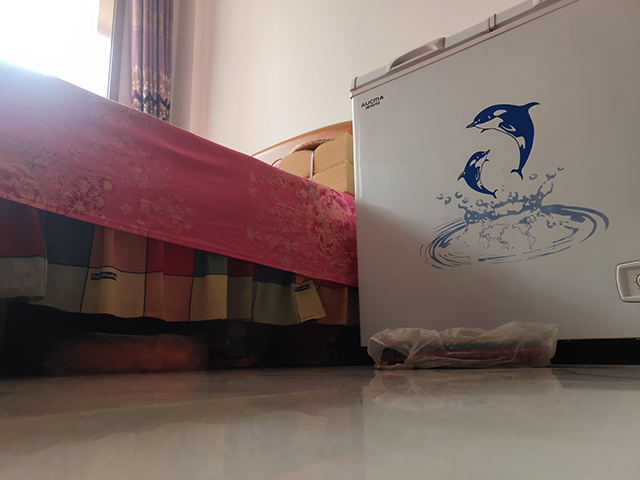bed: (1, 59, 360, 375)
